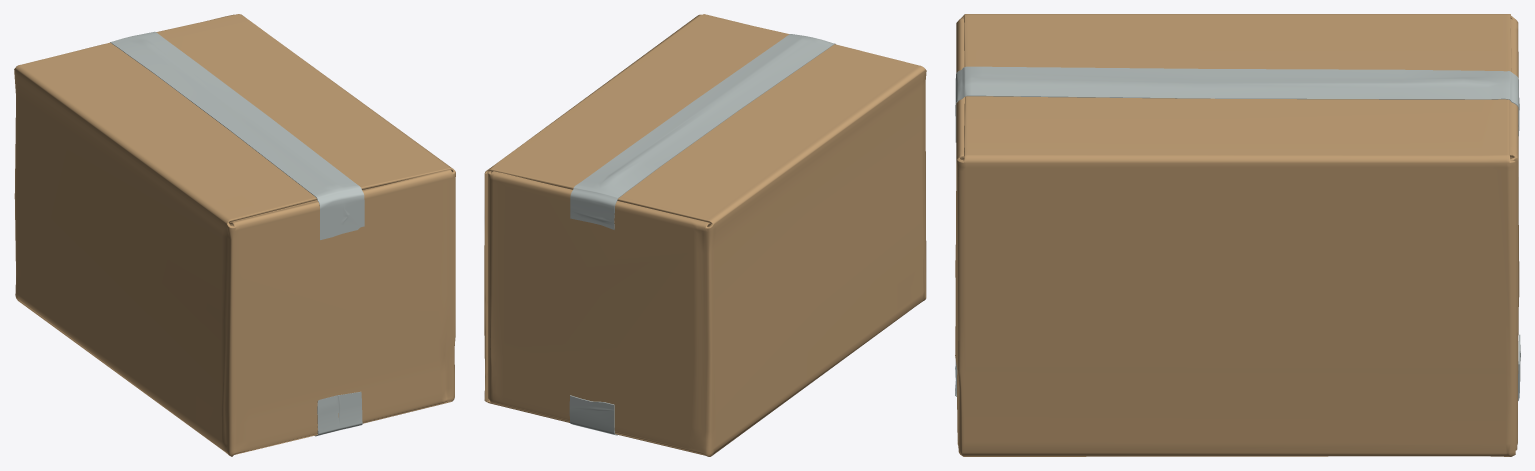
Rendered from box_long_a10.glb.
3 renders of one model, left to right at view 1: azimuth 30°, elevation 25°; view 2: azimuth 150°, elevation 25°; view 3: azimuth 270°, elevation 25°, orthographic. The views are drawn at different scales.
Size of the model in its own units: 0.1568 by 0.1569 by 0.2587.
